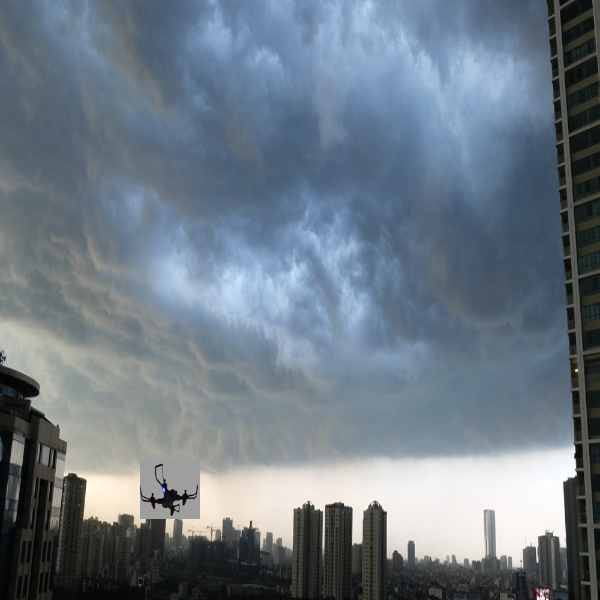drone: (135, 458, 201, 517)
